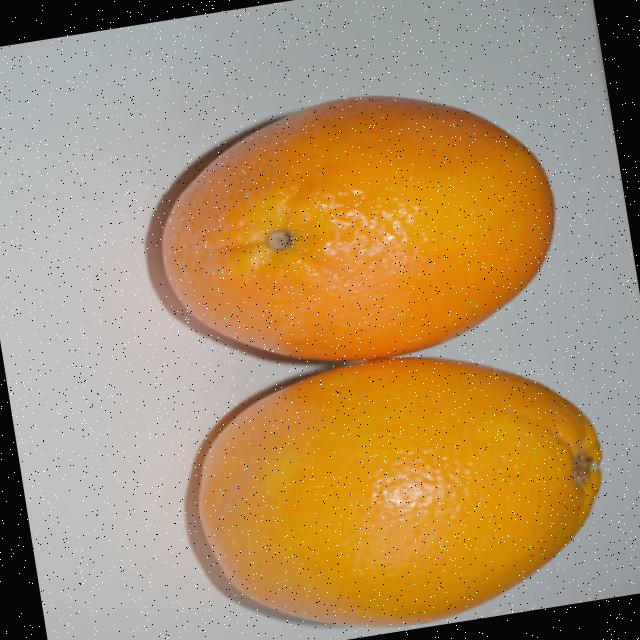Ripe: (168, 326, 635, 640), (135, 66, 578, 392)
